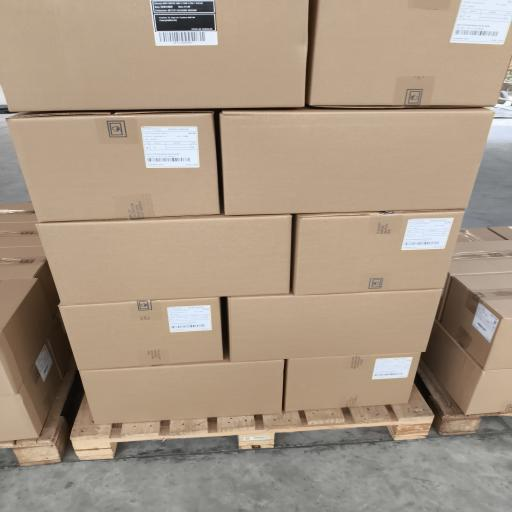pallet: (71, 387, 433, 460), (0, 359, 76, 466), (418, 360, 511, 435)
